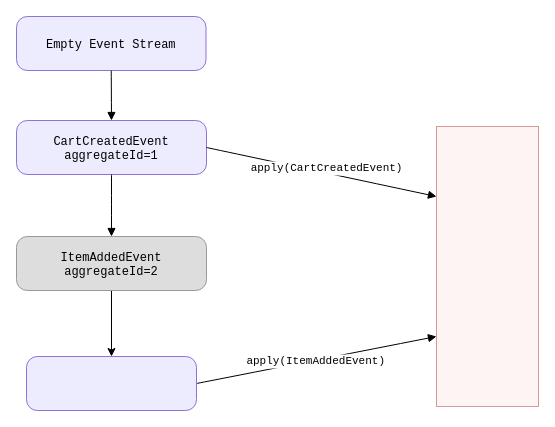
The diagram is 555 pixels wide and 427 high, and some of its shapes have lost their labels. The shapes that lost their labels are listed below. From the top down, each one's centre as x and y in pixels, then its label:
At point 487,266: "Aggregate id=1".
At point 111,383: "ItemAddedEvent aggregateId=1".
